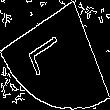L_NE: (33, 30, 77, 80)
